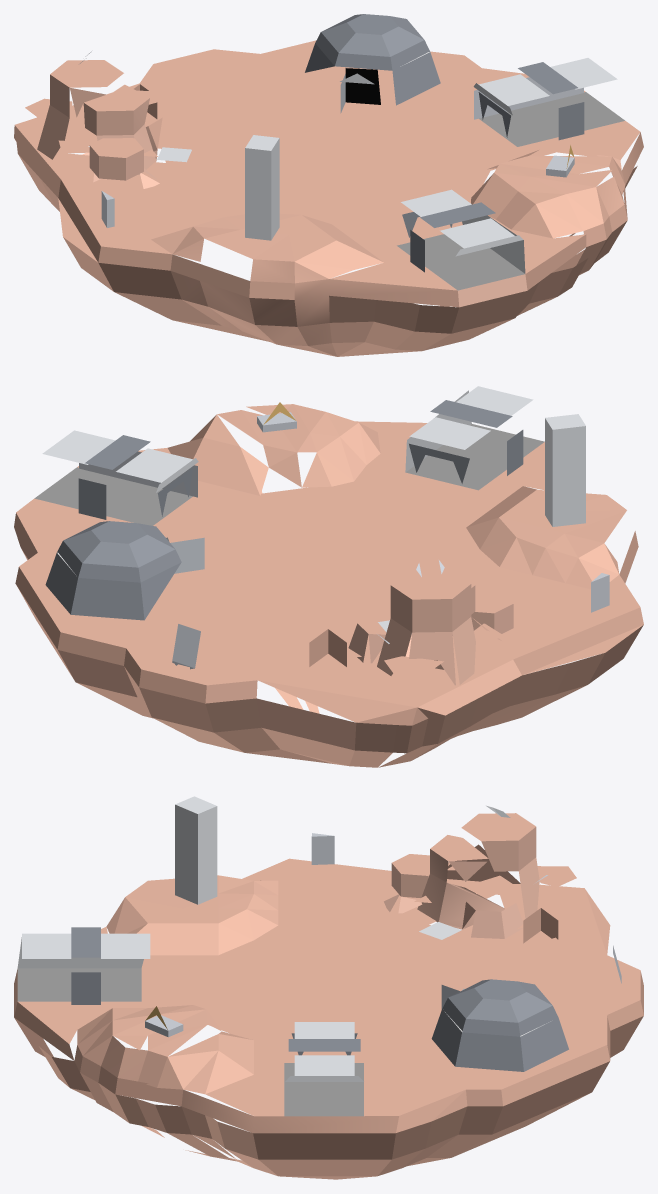
The model's file is new_island_low_poly4.gltf.
The picture shows the model from 3 angles, top to bottom: view 1: azimuth 30°, elevation 25°; view 2: azimuth 150°, elevation 25°; view 3: azimuth 270°, elevation 25°; orthographic projection. The views are drawn at different scales.
Visible parts, largest first — view 1: terrain; view 2: terrain; view 3: terrain.
Part boxes in pixels (left/top/right/bottom): terrain: left=14, top=14, right=643, bottom=356; terrain: left=14, top=386, right=643, bottom=767; terrain: left=14, top=796, right=643, bottom=1179.
Bounding box in the file's own units: 14.41 × 7.83 × 14.74.
